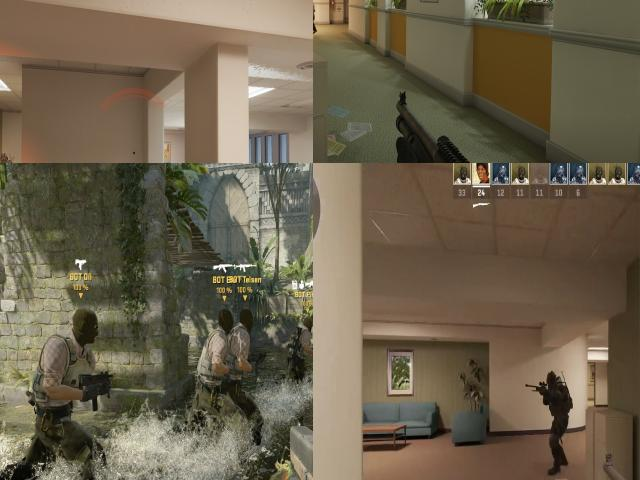CT: (542, 367, 574, 472)
CT-Head: (543, 370, 561, 389), (0, 154, 10, 163)
T: (30, 304, 101, 480), (188, 304, 233, 466), (222, 299, 260, 454), (282, 308, 313, 406)
T-Head: (70, 303, 101, 347), (236, 303, 258, 335), (218, 306, 235, 333), (299, 314, 313, 334)
